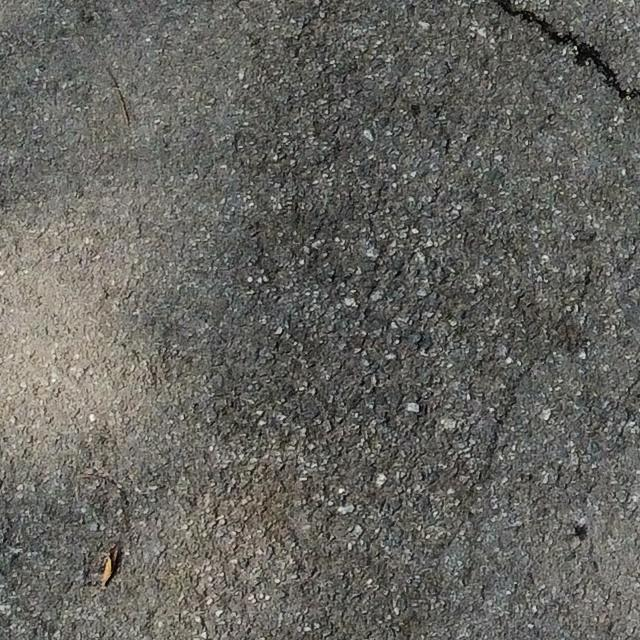TransverseCrack: (491, 1, 640, 98)
